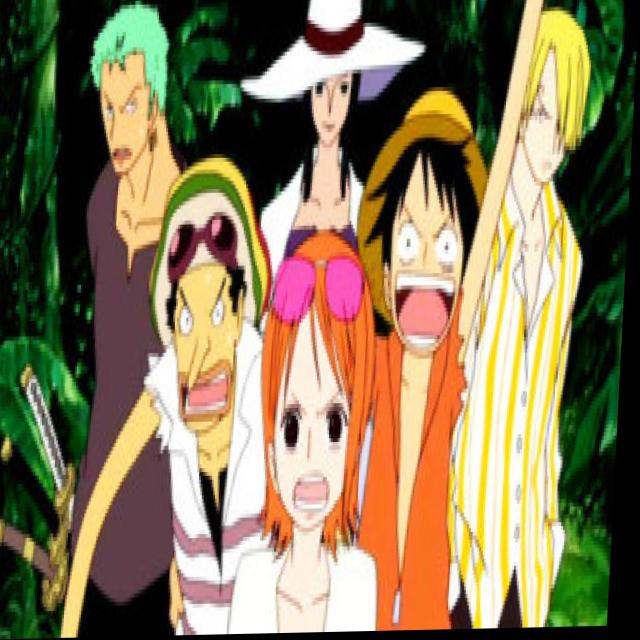Luffy: (375, 87, 502, 362)
Nami: (264, 251, 375, 542)
NicoRobin: (296, 42, 361, 201)
Sangdi: (502, 6, 599, 202)
Usopp: (162, 180, 263, 441)
Zoro: (81, 0, 179, 186)
